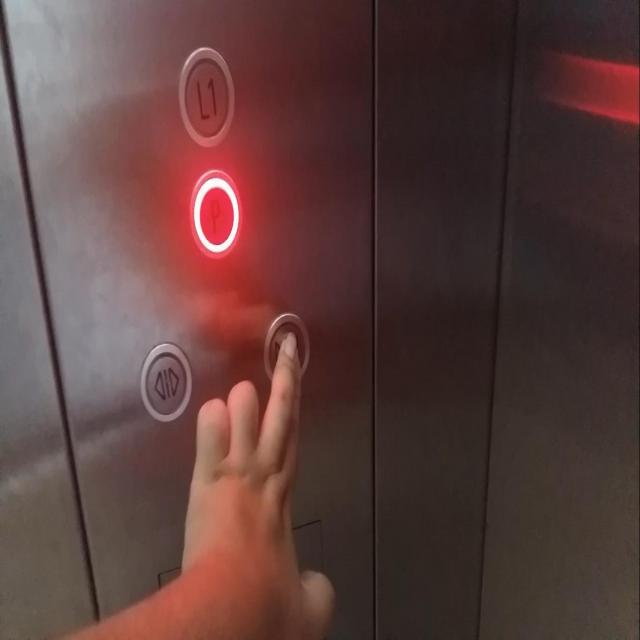L1: (177, 44, 237, 150)
P: (188, 169, 245, 262)
open: (140, 343, 192, 422)
